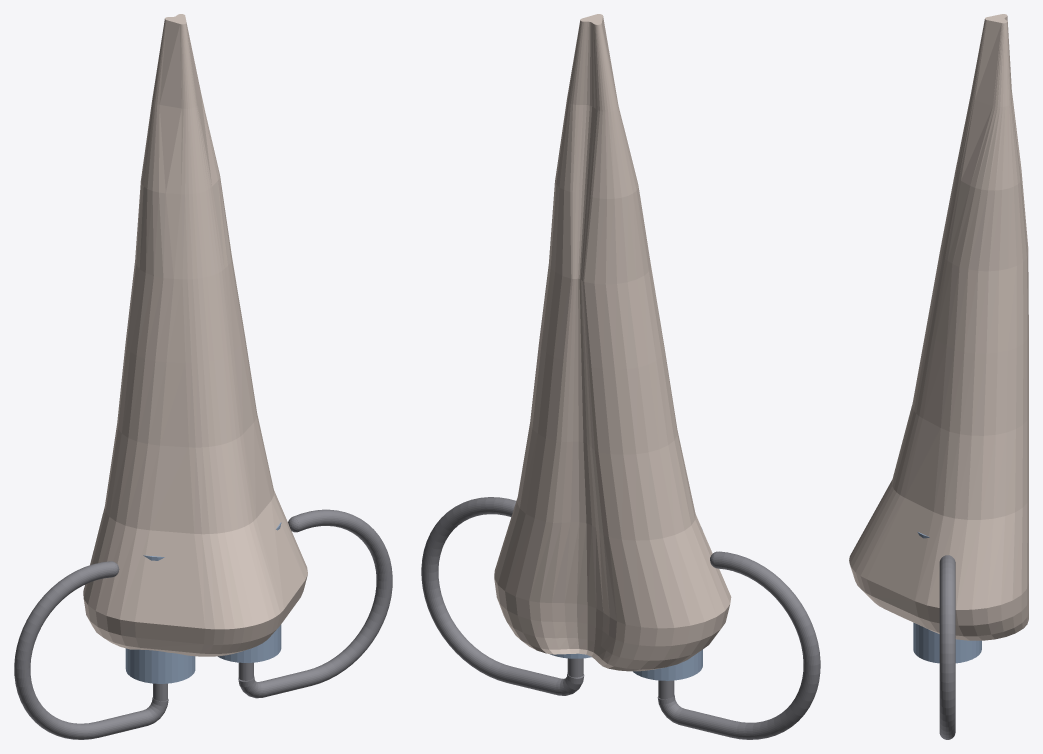
3 renders of one model, left to right at view 1: azimuth 30°, elevation 25°; view 2: azimuth 150°, elevation 25°; view 3: azimuth 270°, elevation 25°, orthographic. The views are drawn at different scales.
Visible parts, largest first — view 1: body, frame_left, frame_right, plug_left, plug_right; view 2: body, frame_left, frame_right, plug_left; view 3: body, frame_right, plug_right.
Boxes of the visible parts, x1,y1,x2,y2 form: body: (83,14,307,656); frame_left: (14,561,168,739); frame_right: (238,509,392,698); plug_left: (125,555,195,683); plug_right: (218,522,281,662); body: (494,14,731,671); frame_left: (657,551,820,739); frame_right: (421,497,584,695); plug_left: (633,527,702,680); body: (849,14,1028,640); frame_right: (939,555,955,739); plug_right: (913,531,981,663).
Size of the model in its own units: 37.31 by 63.79 by 15.7.
